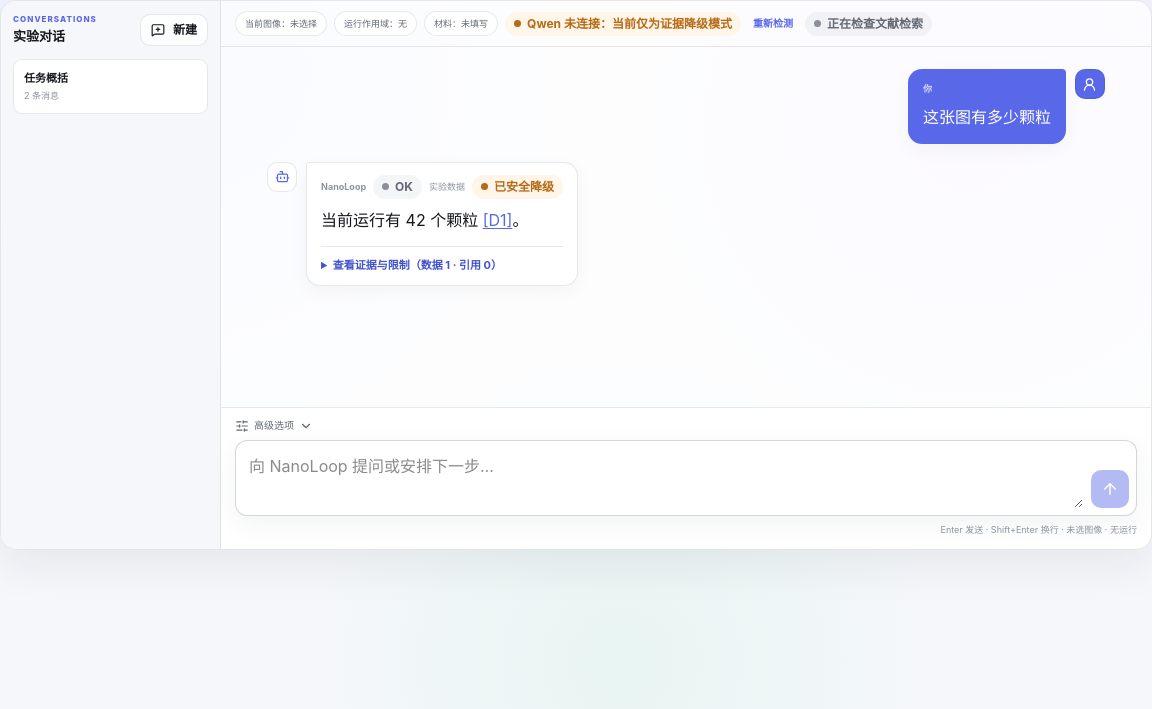
Test case: ConversationPanel › reloads history and exposes fallback evidence and Ollama status
Expected: the text "已安全降级" is shown, [472,175,563,199]
Expected: the text "Qwen 未连接：当前仅为证据降级模式" is shown, [505,12,741,36]
What coordinates should you click on to do the following:
click the button named "展开并定位证据 D1"
I would click on:
 (498, 220)
Its box is [483,207,512,234].
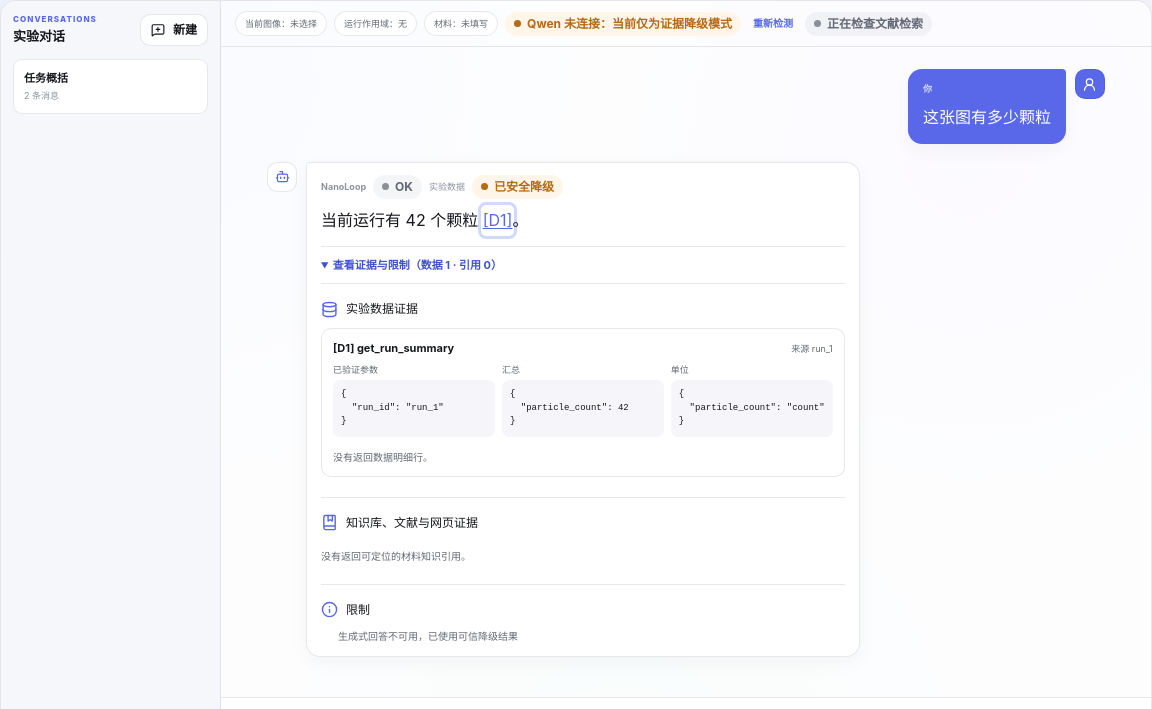
Now the heading "实验数据证据" is shown, box [346,300,418,318]
Now the text "[D1] get_run_summary" is shown, box [333,340,454,357]
